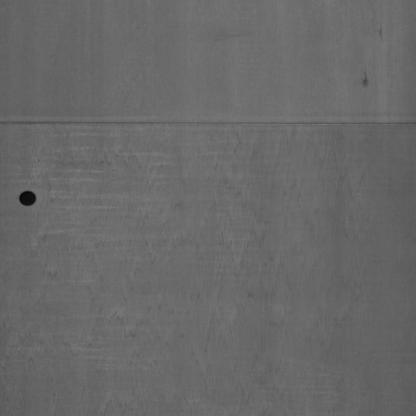inclusion: (359, 66, 370, 93)
punching_hole: (18, 188, 39, 212)
silk_spot: (46, 148, 374, 386)
welding_line: (1, 109, 414, 138)
